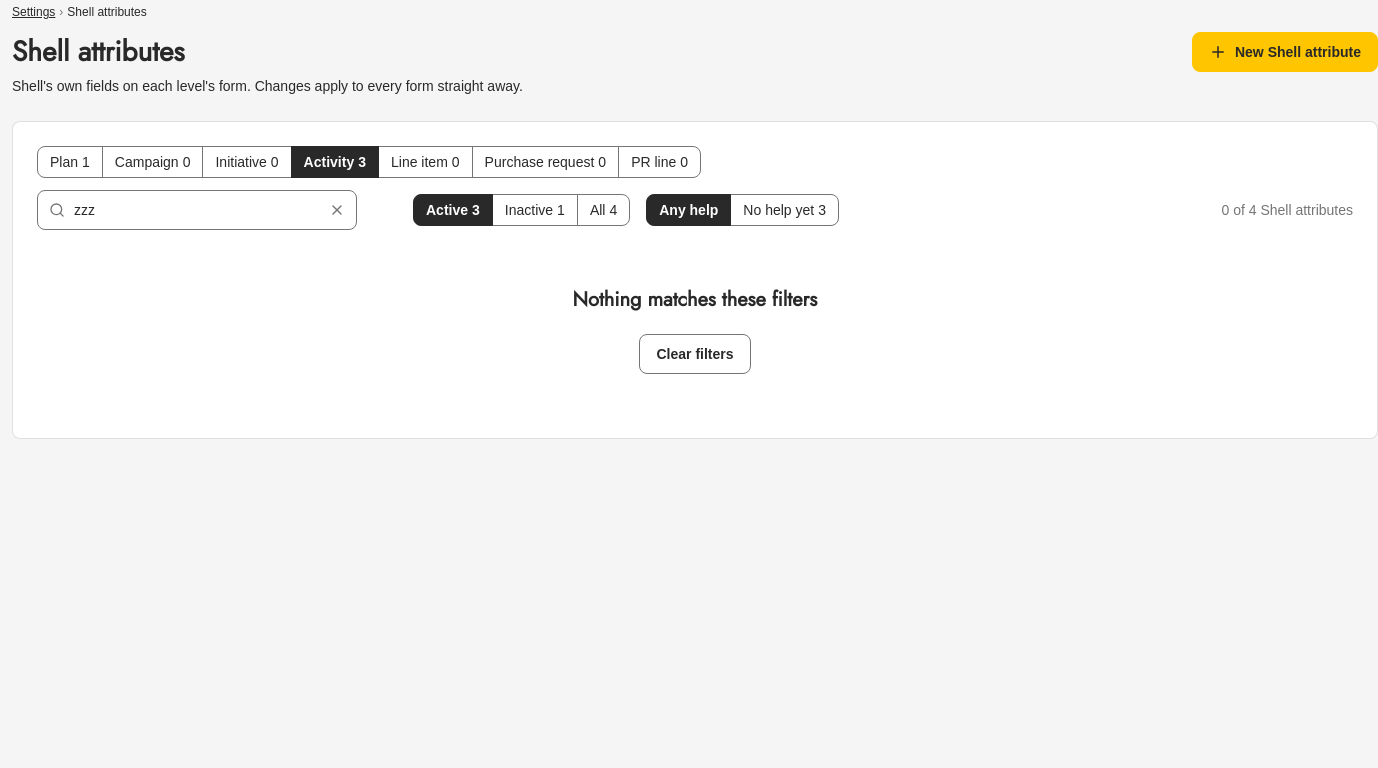
Test: ShellAttributesPage: list (FR-016 – FR-019) › says when nothing matches, and Clear filters shows every attribute again
The image size is (1378, 768).
Check: the text "Nothing matches these filters" is shown, box [573,286,817,314]
What coordinates should you click on to do the following:
click the button "Clear filters"
I would click on:
 (695, 354)
Its box is [640,334,750,374].
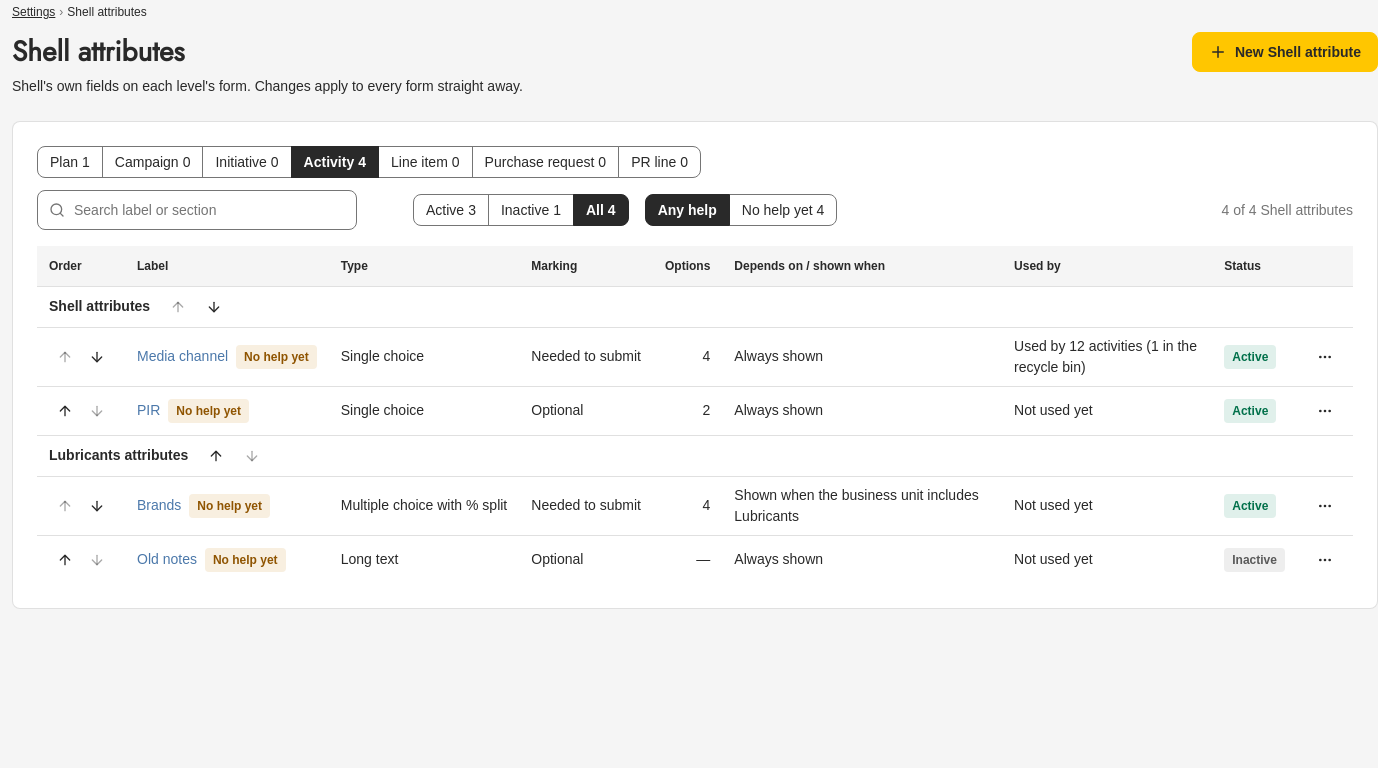
Check: the text "4 of 4 Shell attributes" is shown, box [1222,200,1353,220]
